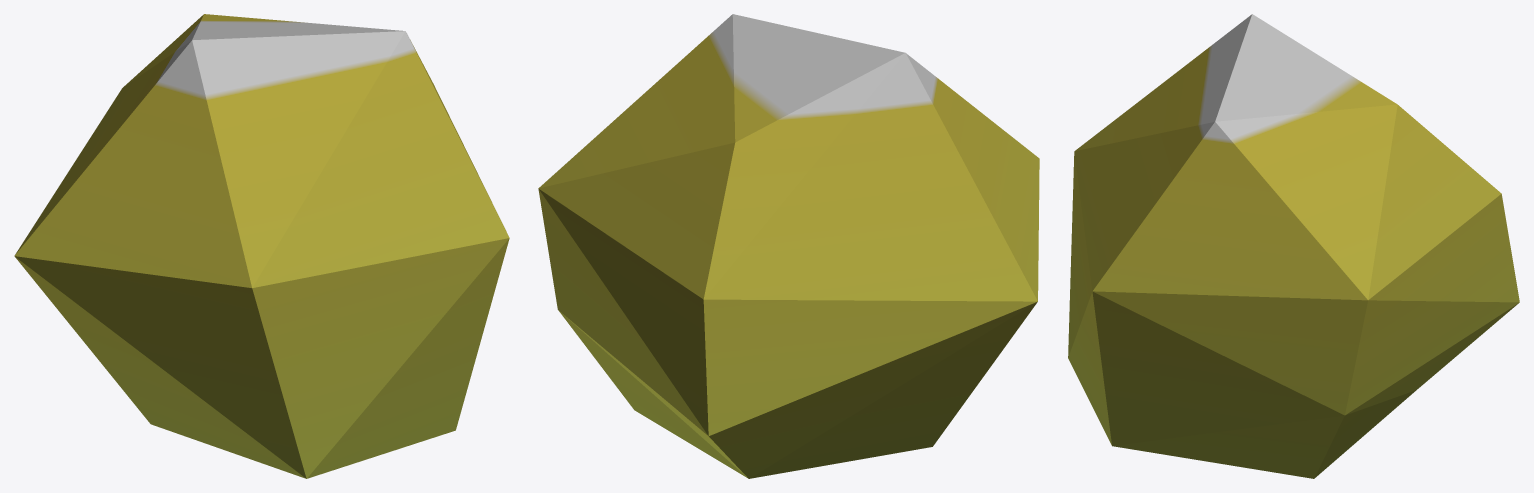
Rendered from Rock_04.fbx.
The picture shows the model from 3 angles, left to right: view 1: azimuth 30°, elevation 25°; view 2: azimuth 150°, elevation 25°; view 3: azimuth 270°, elevation 25°; orthographic projection. The views are drawn at different scales.
Parts seen in each view (by area): view 1: Rock_04; view 2: Rock_04; view 3: Rock_04.
Boxes of the visible parts, bbox=[...] form: Rock_04: bbox=[14, 14, 509, 478]; Rock_04: bbox=[538, 14, 1039, 478]; Rock_04: bbox=[1068, 14, 1519, 478].
Bounding box in the file's own units: 1.61 × 1.31 × 1.5.
